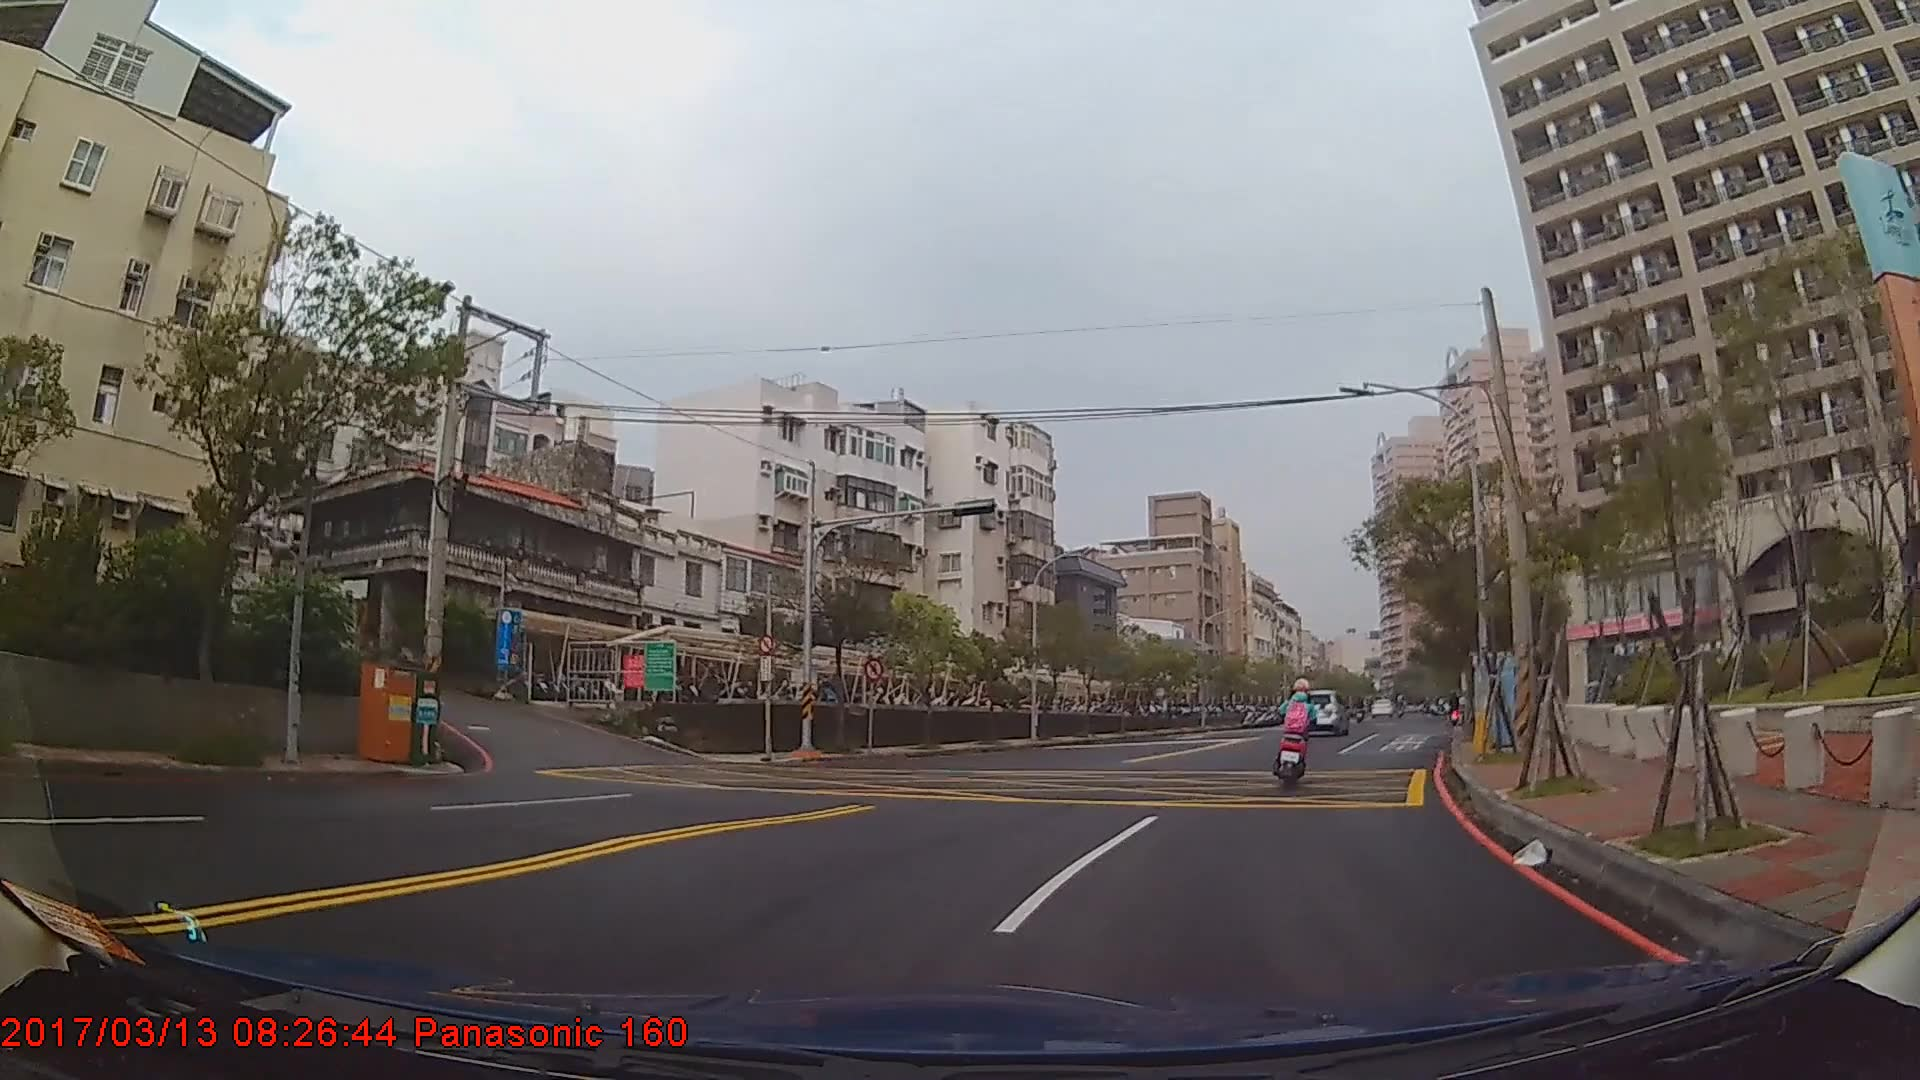rider: (1274, 679, 1321, 784)
vehicle: (1289, 686, 1352, 735)
